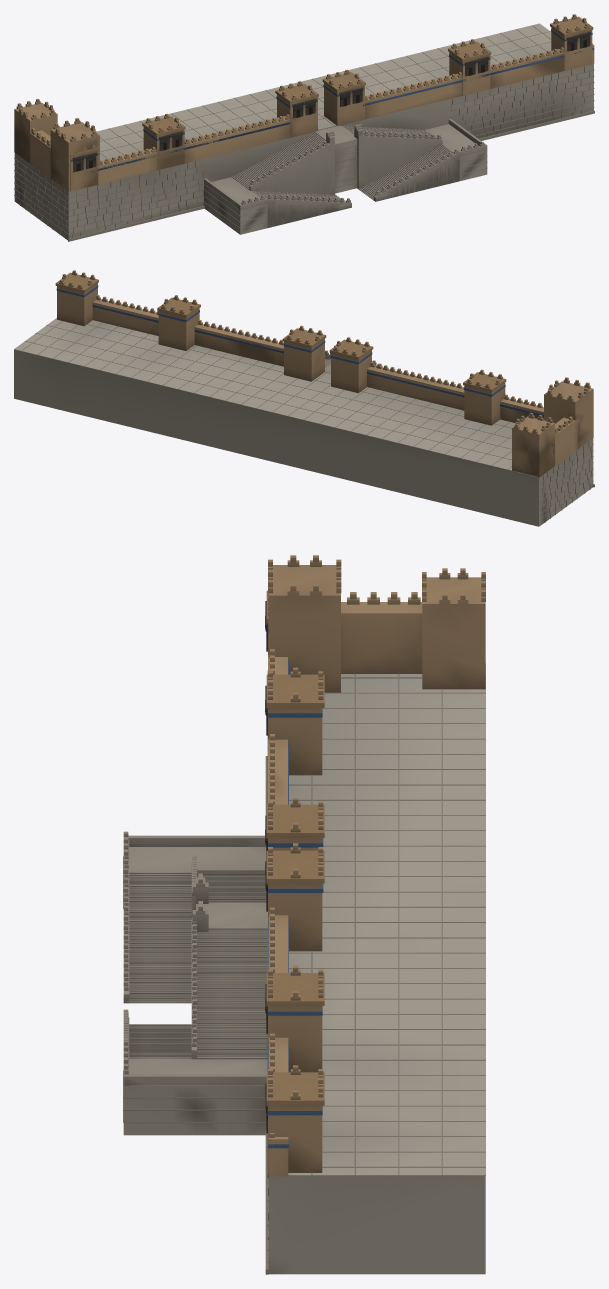
The model's file is takht.glb.
3 views of the same model, one above another, from view 1: azimuth 30°, elevation 25°; view 2: azimuth 150°, elevation 25°; view 3: azimuth 270°, elevation 25° (orthographic). The views are drawn at different scales.
Visible parts, largest first — view 1: p0_terrace, p1_fortification; view 2: p0_terrace, p1_fortification; view 3: p0_terrace, p1_fortification.
Part boxes in pixels (left/top/right/bottom): p0_terrace: left=14, top=23, right=594, bottom=241; p1_fortification: left=14, top=14, right=594, bottom=191; p0_terrace: left=14, top=318, right=594, bottom=526; p1_fortification: left=55, top=270, right=593, bottom=477; p0_terrace: left=123, top=663, right=485, bottom=1274; p1_fortification: left=265, top=555, right=485, bottom=1176.
Size of the model in its own units: 134 by 25.22 by 40.15.
